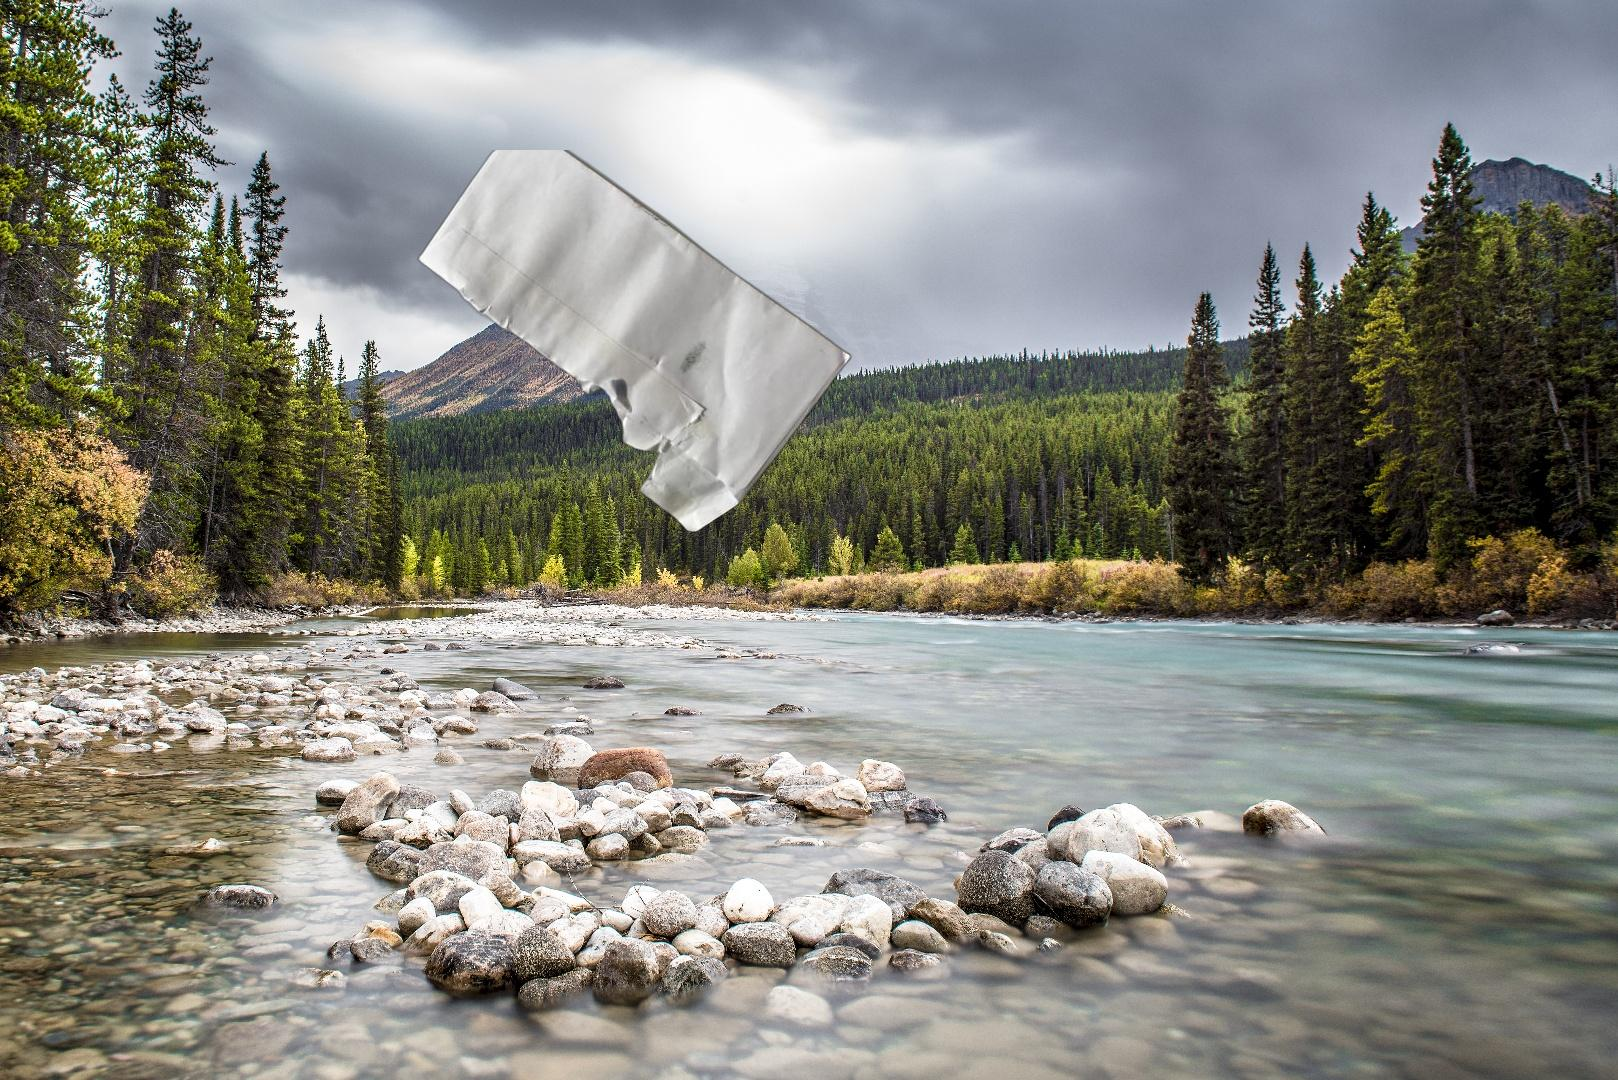paper: (414, 150, 856, 534)
